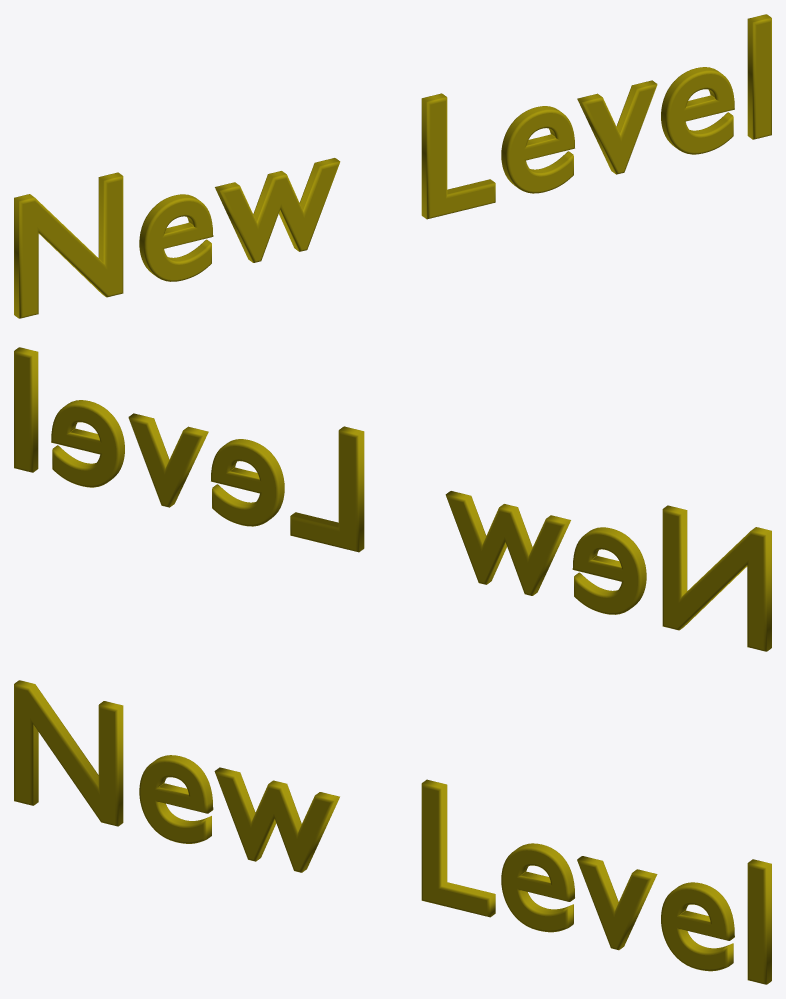
The model's file is level.obj.
The picture shows the model from 3 angles, top to bottom: view 1: azimuth 30°, elevation 25°; view 2: azimuth 150°, elevation 25°; view 3: azimuth 330°, elevation 25°; orthographic projection.
Parts seen in each view (by area): view 1: Text; view 2: Text; view 3: Text.
Boxes of the visible parts, x1,y1,x2,y2 form: Text: [14, 14, 771, 318]; Text: [14, 347, 771, 651]; Text: [14, 680, 771, 984].
Bounding box in the file's own units: 135 × 20.42 × 2.26.
